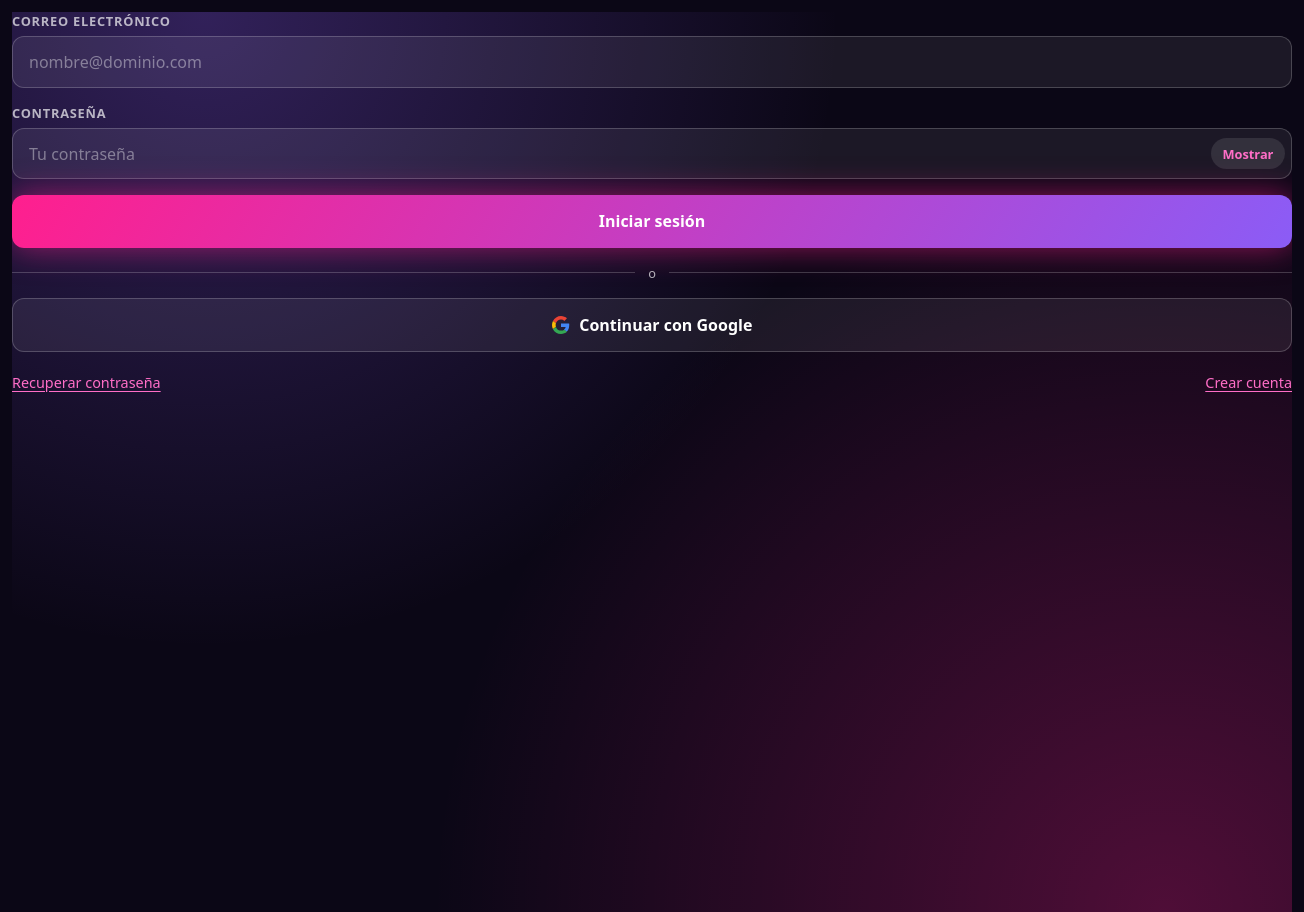
Test case: <LoginForm /> › informa que Firebase no está configurado y no simula un inicio de sesión
This screenshot has width=1304, height=912.
Click the button "Continuar con Google" at (652,325), box [12,298,1292,352]
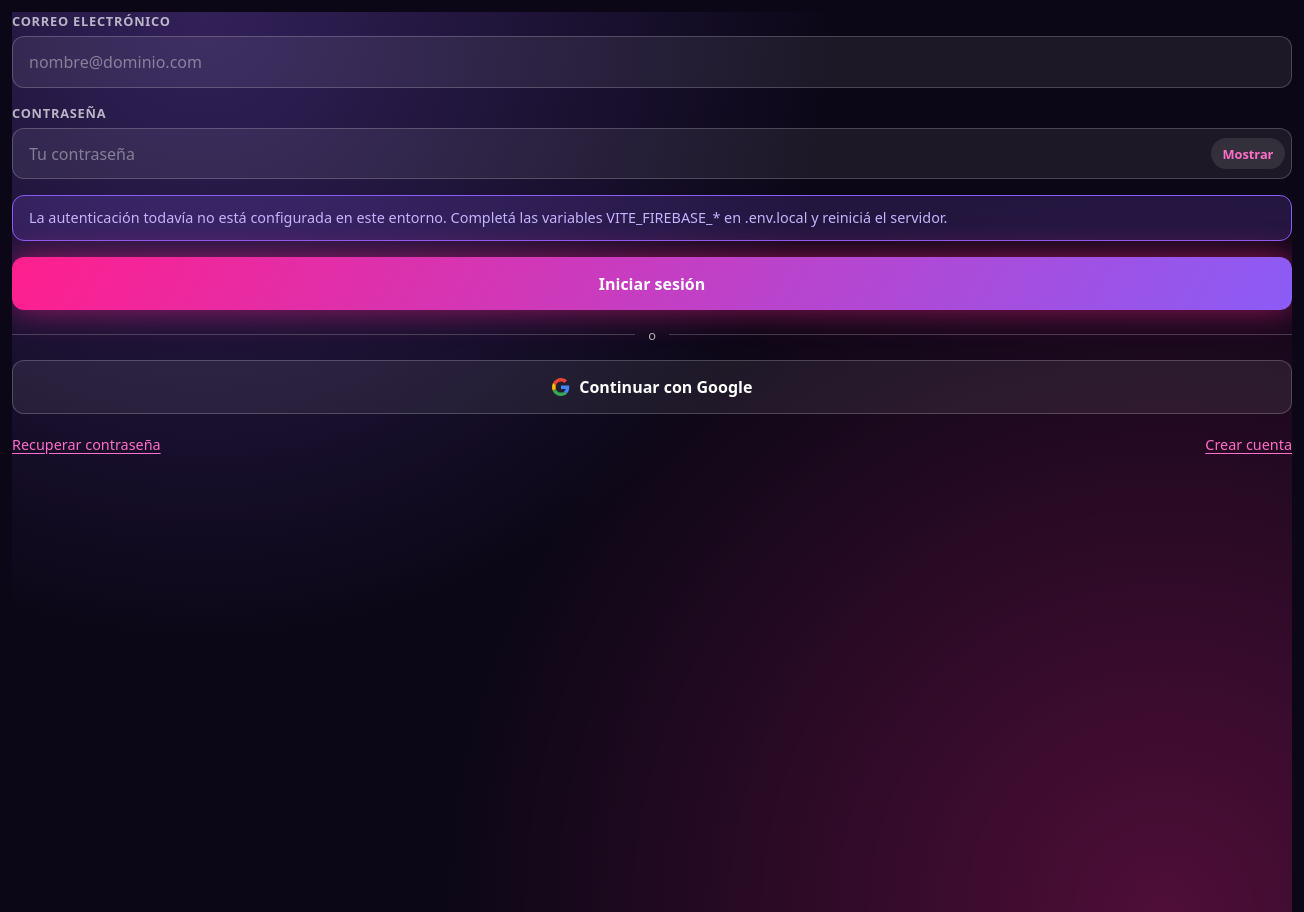
Check: the message shows "no está configurada", box [29,208,947,227]
